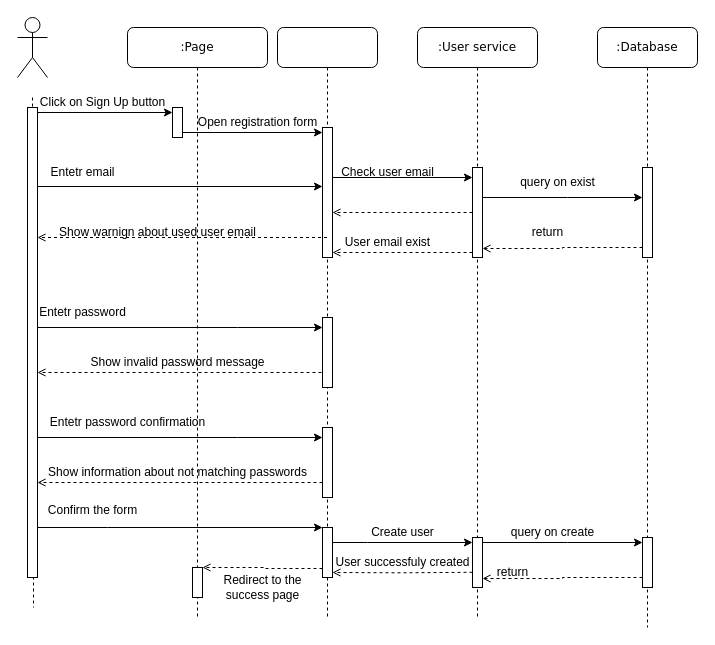
Image size: 715x645. Some labels were removed from this diagram. The centre of each missing label's shape, as x and y in pixels:
":Registration Form" belongs at (x=327, y=322).
":User" belongs at (x=32, y=47).
